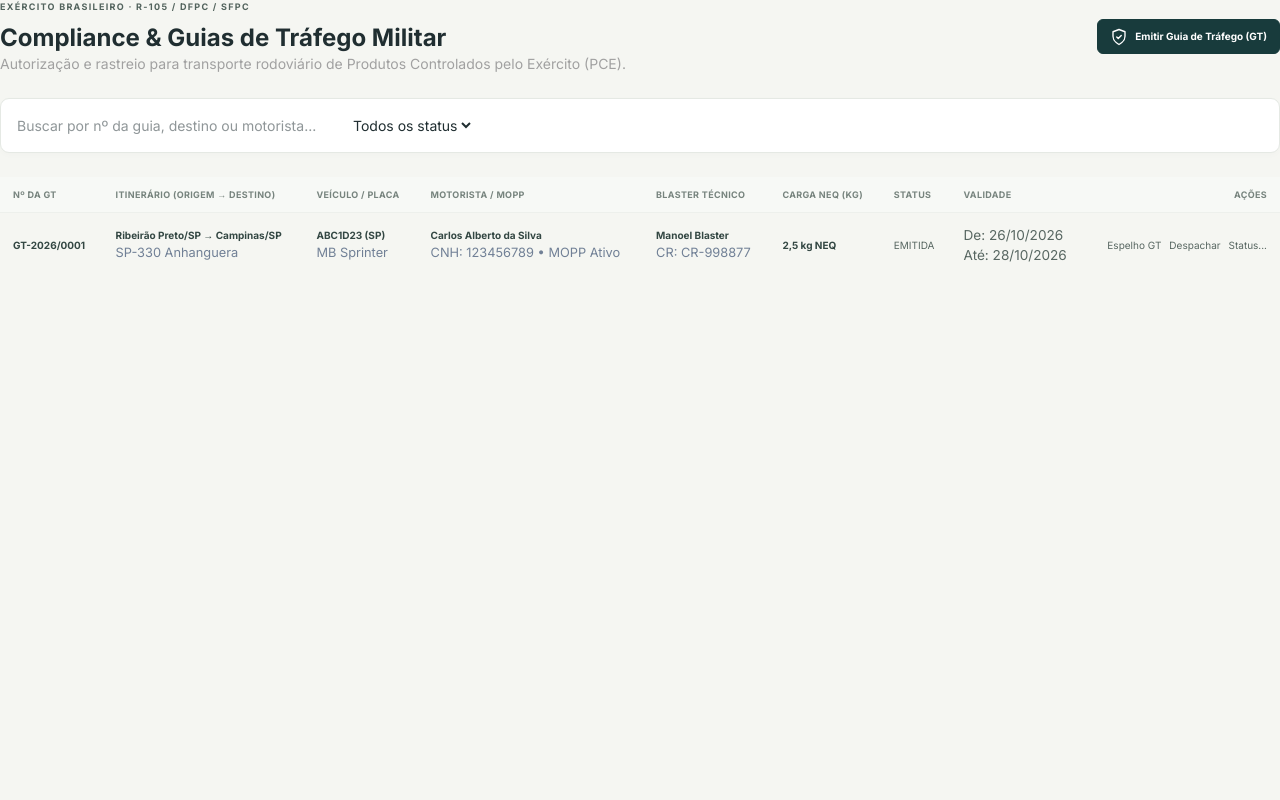
Test: ComplianceWorkspace › abre o espelho oficial de impressão da GT para fiscalização militar
The image size is (1280, 800).
Click the button "Espelho GT" at [1134, 245], box x1=1107 y1=238 x2=1161 y2=253
(page scrolled)
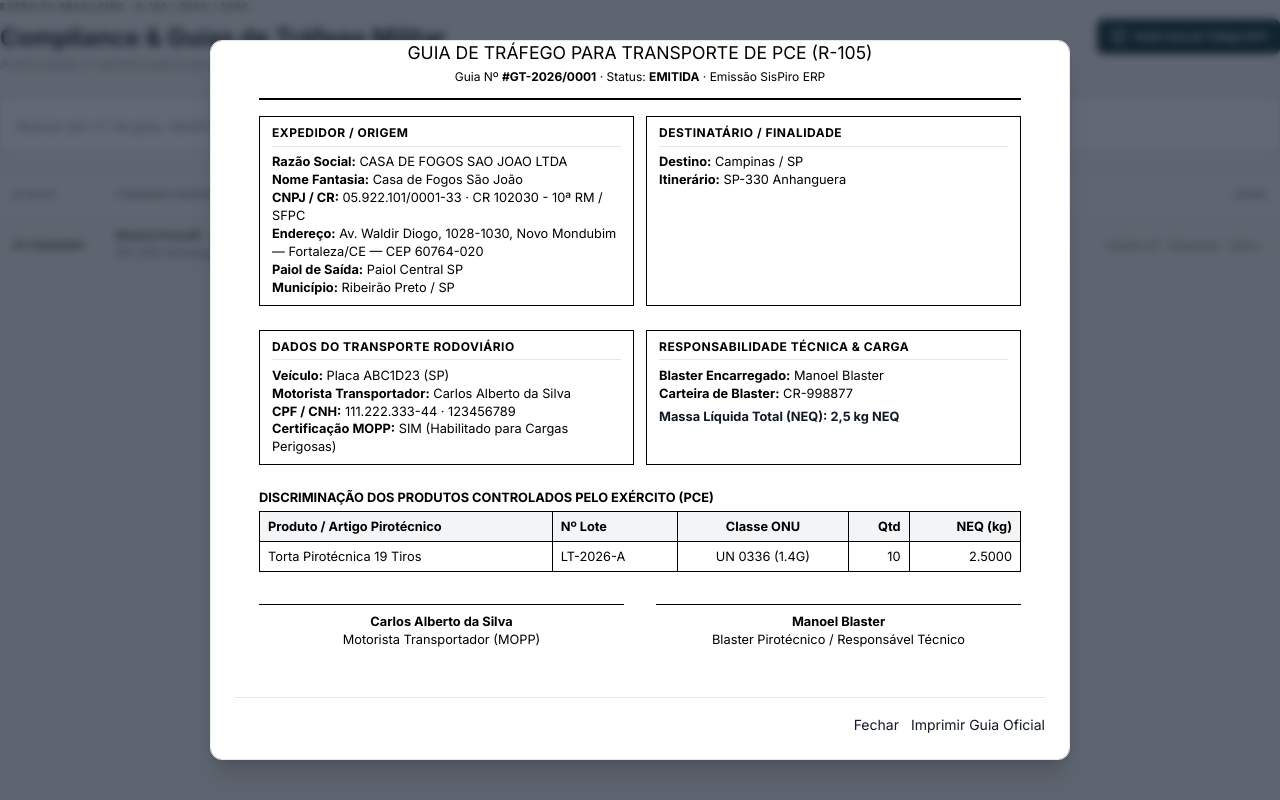
Now the button "Imprimir Guia Oficial" is shown, box x1=911 y1=714 x2=1045 y2=735
